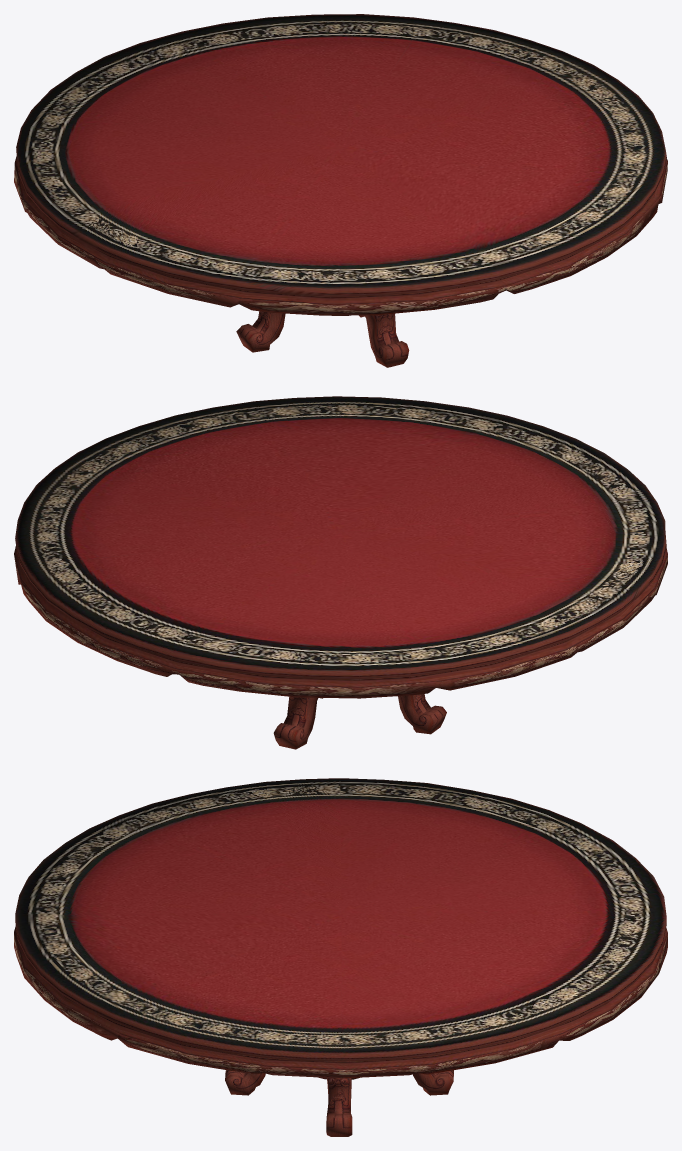
File: 贵客桌子.fbx
3 renders of one model, top to bottom at view 1: azimuth 30°, elevation 25°; view 2: azimuth 150°, elevation 25°; view 3: azimuth 270°, elevation 25°, orthographic.
Visible parts, largest first — view 1: tripo_node_fd8742dd; view 2: tripo_node_fd8742dd; view 3: tripo_node_fd8742dd.
Part boxes in pixels (x1,y1,x2,y2): tripo_node_fd8742dd: (14, 14, 667, 367); tripo_node_fd8742dd: (14, 396, 667, 749); tripo_node_fd8742dd: (14, 778, 667, 1136).
Bounding box in the file's own units: 2.12 × 0.6343 × 2.12.
1 material, 1 textured.
